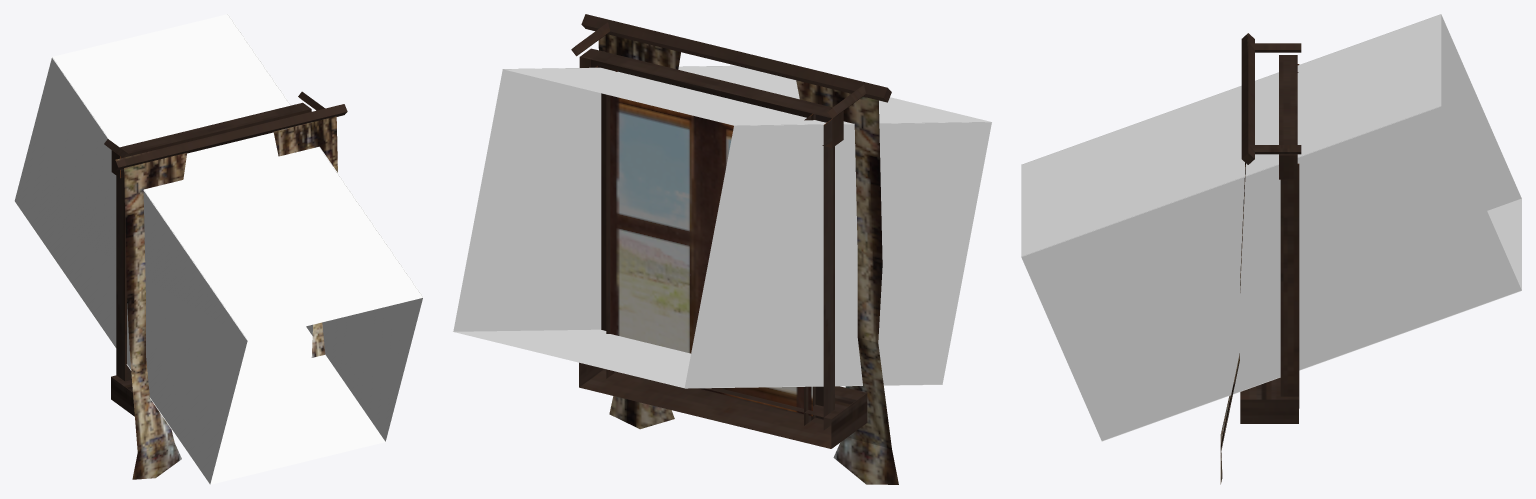
File: Window.fbx
3 views of the same model, side by side, from view 1: azimuth 30°, elevation 25°; view 2: azimuth 150°, elevation 25°; view 3: azimuth 270°, elevation 25° (orthographic). The views are drawn at different scales.
Visible parts, largest first — view 1: Light64, Cube.026; view 2: Light64, Cube.026; view 3: Light64, Cube.026.
Part boxes in pixels (x1,y1,x2,y2): Light64: [14, 14, 423, 484]; Cube.026: [104, 91, 347, 479]; Light64: [453, 65, 991, 388]; Cube.026: [571, 14, 898, 484]; Light64: [1021, 14, 1521, 441]; Cube.026: [1220, 33, 1301, 484].
Size of the model in its own units: 130 by 188 by 229.
Materials: 5 (5 with a texture image).
